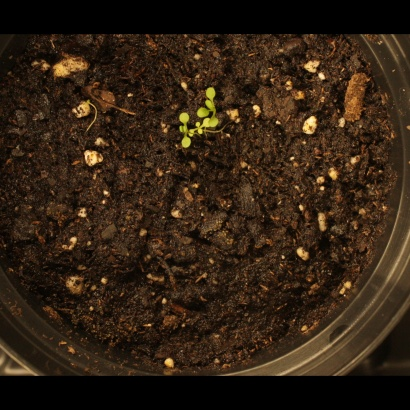leaf: (171, 137, 194, 160), (168, 102, 191, 125), (204, 76, 227, 99), (188, 96, 211, 119), (210, 116, 233, 139)
